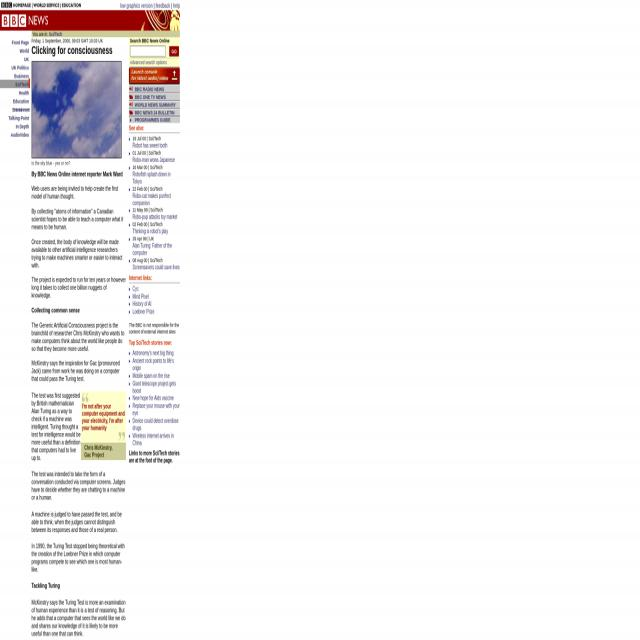button: (32, 62, 122, 158), (0, 10, 180, 31), (82, 392, 126, 443), (129, 67, 180, 84), (0, 1, 82, 10), (169, 47, 179, 57)
field: (130, 46, 166, 57)
